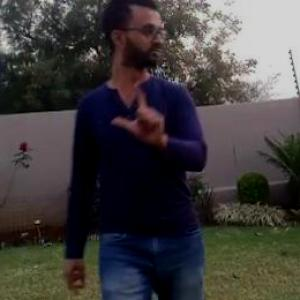land_hand: (108, 81, 171, 151)
